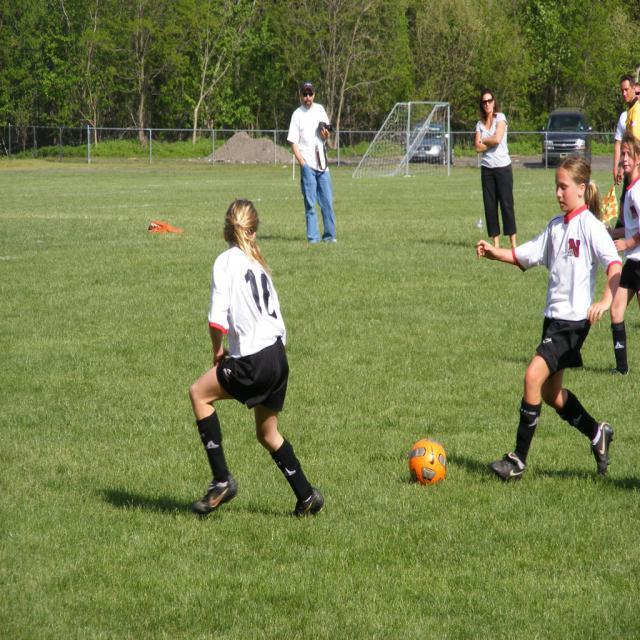football: (402, 428, 455, 490)
